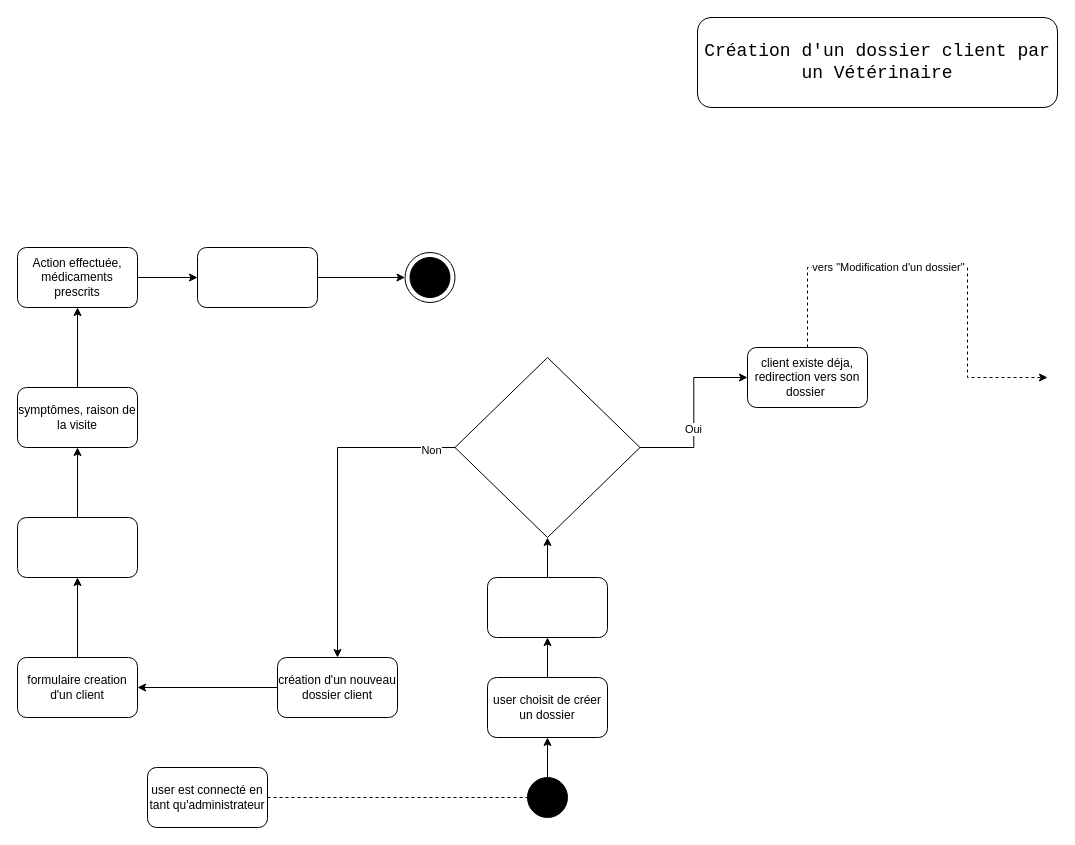
Some shapes in this 1075 by 845 pixel diagram are drawn without their labels. Each missing label, with the centre of its shape:
formulaire création d'un l'animal: the point at 77,547
le client est-il déja connu de la clinique vétérinaire ?: the point at 547,447
le dossier est crée: the point at 257,277
user rentrer le nom du client: the point at 547,607
